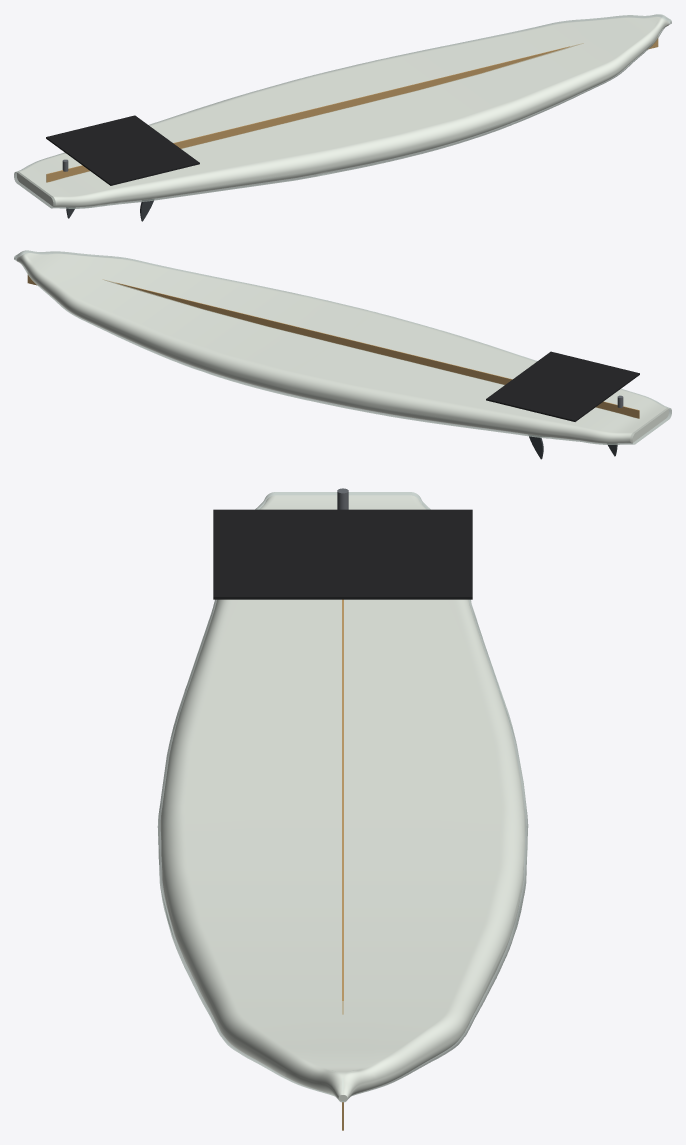
File: anatomy_v1.glb
3 views of the same model, one above another, from view 1: azimuth 30°, elevation 25°; view 2: azimuth 150°, elevation 25°; view 3: azimuth 270°, elevation 25° (orthographic). The views are drawn at different scales.
Visible parts, largest first — view 1: laminate.1 (×2), foam.1, pad.1, wood.1; view 2: laminate.1 (×2), foam.1, pad.1, wood.1; view 3: laminate.1 (×2), foam.1, pad.1.
Part boxes in pixels (x1,y1,x2,y2): laminate.1 (×2): [14, 14, 671, 208]; foam.1: [17, 16, 669, 207]; pad.1: [46, 115, 199, 185]; wood.1: [46, 37, 658, 182]; laminate.1 (×2): [14, 250, 671, 444]; foam.1: [16, 253, 668, 443]; pad.1: [486, 351, 639, 421]; wood.1: [27, 273, 639, 418]; laminate.1 (×2): [157, 492, 528, 1102]; foam.1: [160, 495, 525, 1101]; pad.1: [213, 509, 472, 599].
Bounding box in the file's own units: 2.29 × 0.2043 × 0.5754.
